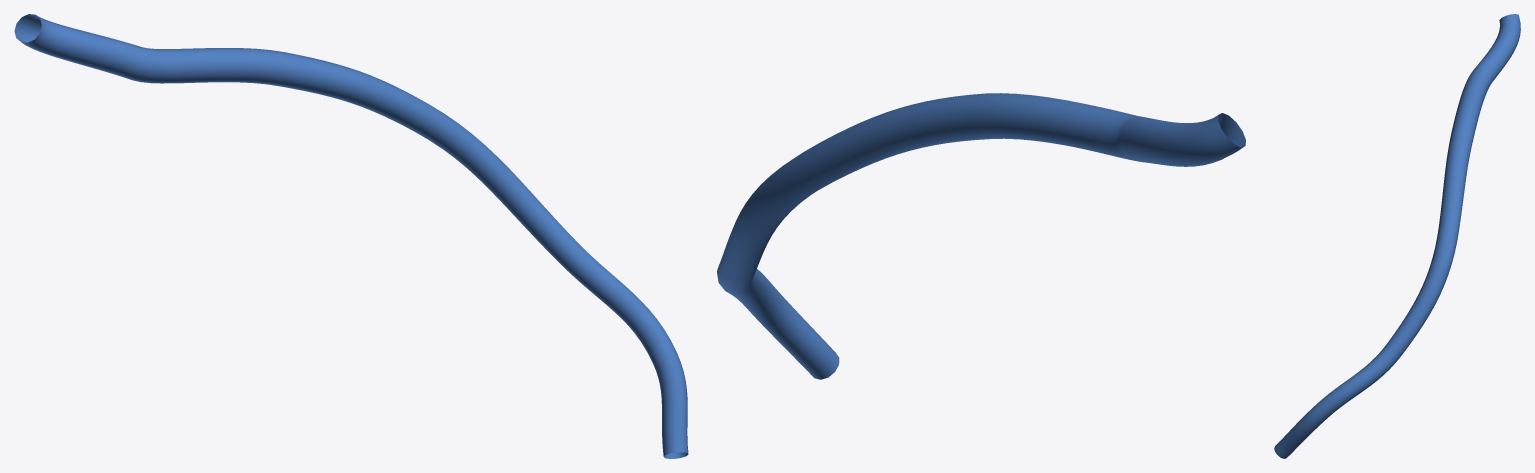
3 renders of one model, left to right at view 1: azimuth 30°, elevation 25°; view 2: azimuth 150°, elevation 25°; view 3: azimuth 270°, elevation 25°, orthographic. The views are drawn at different scales.
Parts seen in each view (by area): view 1: 右侧岩下窦; view 2: 右侧岩下窦; view 3: 右侧岩下窦.
Boxes of the visible parts, x1,y1,x2,y2 form: 右侧岩下窦: [14, 14, 688, 458]; 右侧岩下窦: [717, 93, 1245, 379]; 右侧岩下窦: [1274, 14, 1520, 458].
Bounding box in the file's own units: 0.056 × 0.0451 × 0.0347.
